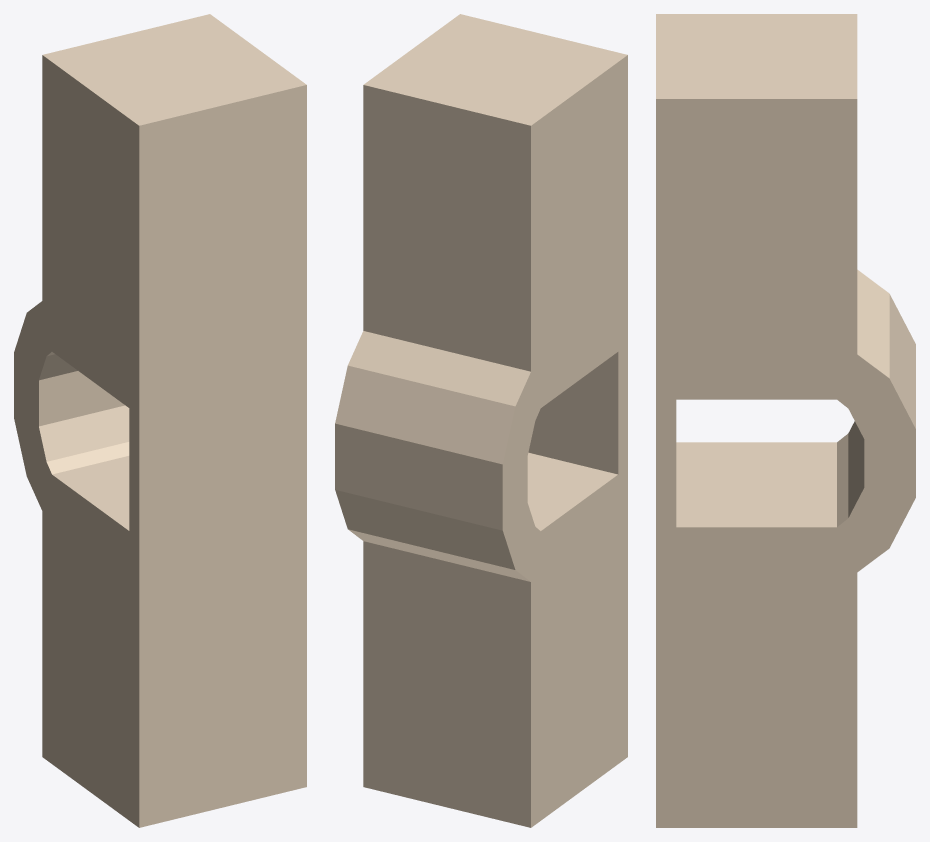
The model's file is Puzzle_Wall_Pillar_Conduit_Passthrough.glb.
The picture shows the model from 3 angles, left to right: view 1: azimuth 30°, elevation 25°; view 2: azimuth 150°, elevation 25°; view 3: azimuth 270°, elevation 25°; orthographic projection. The views are drawn at different scales.
Parts seen in each view (by area): view 1: Puzzle_Wall_Pillar_Conduit_Passthrough; view 2: Puzzle_Wall_Pillar_Conduit_Passthrough; view 3: Puzzle_Wall_Pillar_Conduit_Passthrough.
Boxes of the visible parts, bbox=[...] form: Puzzle_Wall_Pillar_Conduit_Passthrough: bbox=[14, 14, 306, 827]; Puzzle_Wall_Pillar_Conduit_Passthrough: bbox=[335, 14, 627, 827]; Puzzle_Wall_Pillar_Conduit_Passthrough: bbox=[656, 14, 915, 827].
Bounding box in the file's own units: 0.25 × 1 × 0.323.
